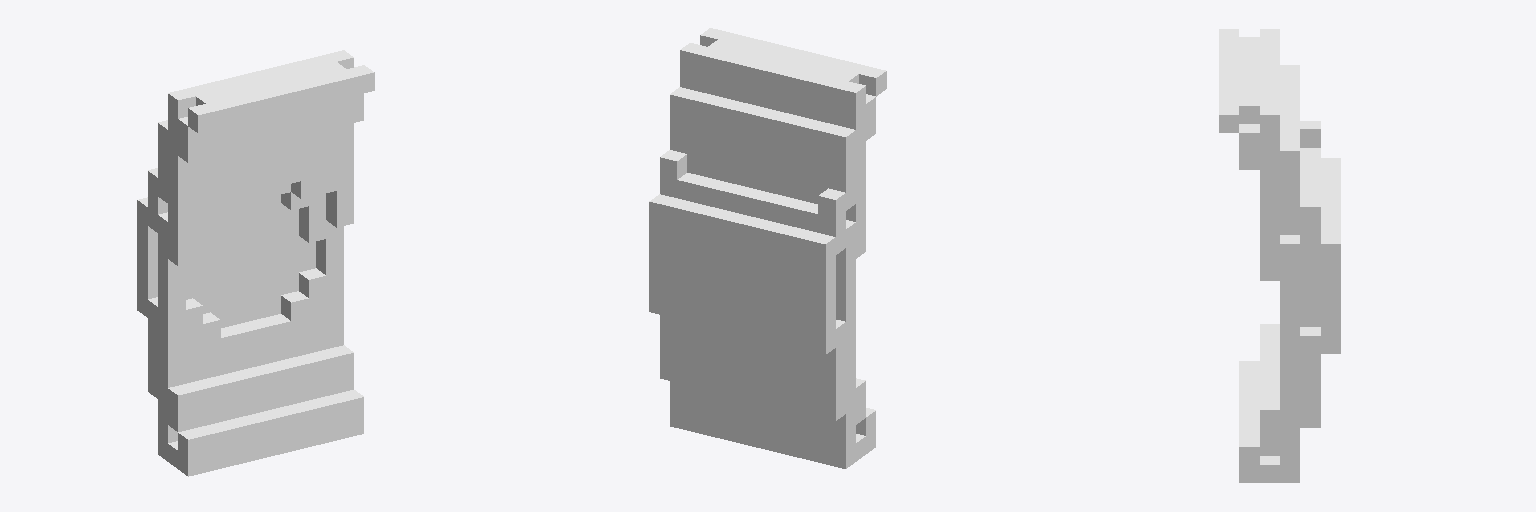
File: plane_window_01.obj
3 views of the same model, side by side, from view 1: azimuth 30°, elevation 25°; view 2: azimuth 150°, elevation 25°; view 3: azimuth 270°, elevation 25° (orthographic).
Visible parts, largest first — view 1: object 1; view 2: object 1; view 3: object 1.
Boxes of the visible parts, box(x1,y1,x2,y2) form: object 1: box(137, 50, 374, 476); object 1: box(649, 28, 886, 468); object 1: box(1219, 29, 1340, 482).
Bounding box in the file's own units: 1 × 2 × 0.6.